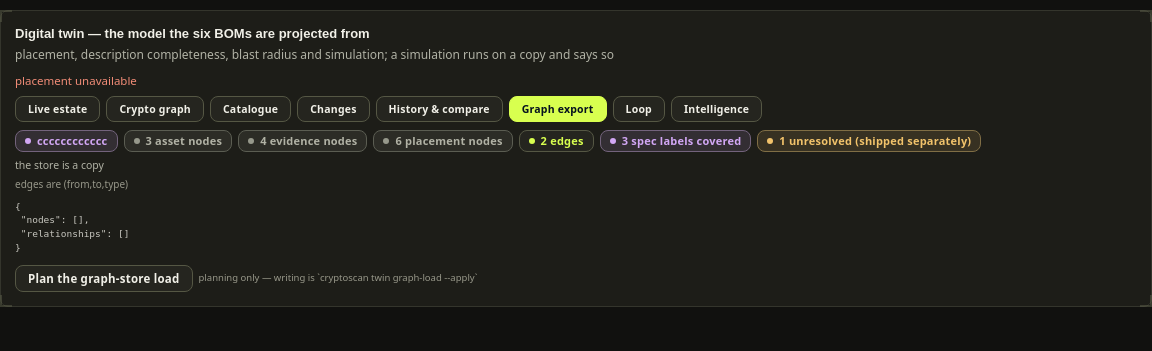
Test case: plans a graph-store load without writing anything
The width and height of the screenshot is (1152, 351).
Earlier steps of the test are not shown.
Expected: the text "6 placement nodes" is shown, [374,130,513,152]
Expected: the text "3 spec labels covered" is shown, [600,130,751,152]
Step 1. Click the button "Plan the graph-store load" → (104, 278), box [15,265,192,292]
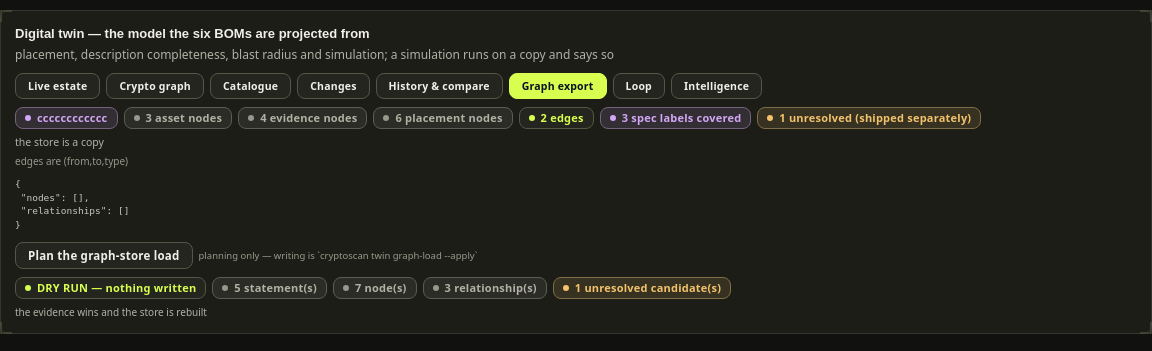
Expected: the text "DRY RUN — nothing written" is shown, [15,277,206,299]
Expected: the text "5 statement(s)" is shown, [212,277,327,299]
Expected: the text "1 unresolved candidate(s)" is shown, [553,277,731,299]
